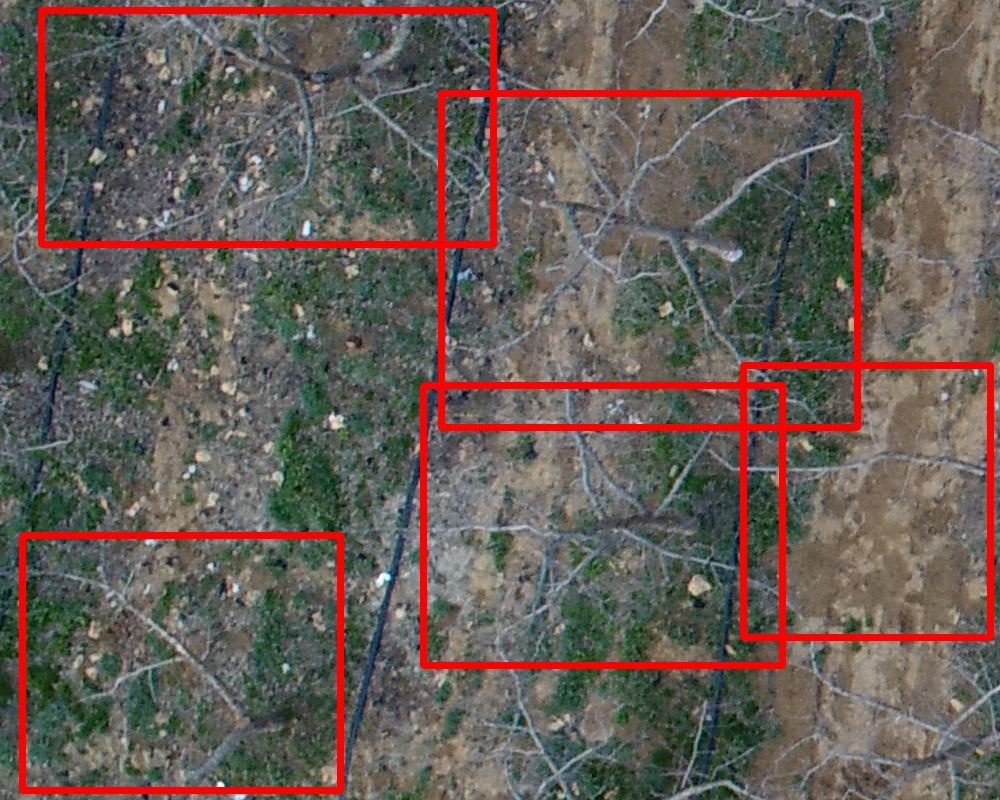apple: (441, 93, 857, 427), (41, 10, 493, 244), (423, 385, 782, 665), (22, 535, 340, 790), (743, 365, 990, 637)
